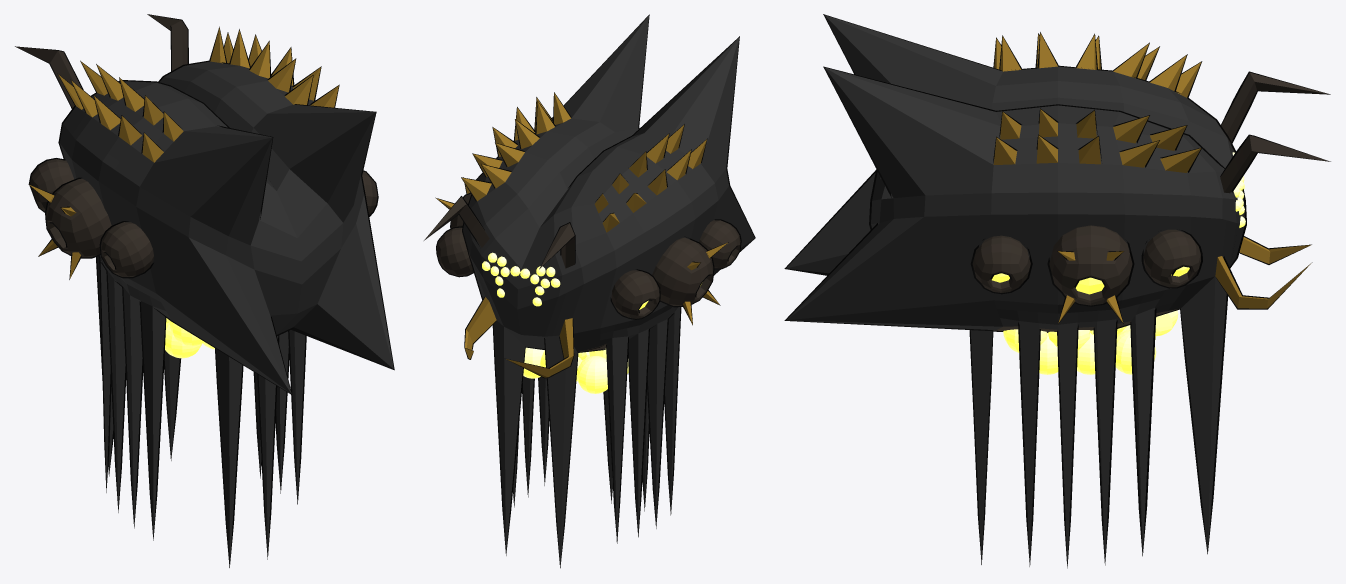
Rendered from Queen.fbx.
The picture shows the model from 3 angles, left to right: view 1: azimuth 30°, elevation 25°; view 2: azimuth 150°, elevation 25°; view 3: azimuth 270°, elevation 25°; orthographic projection. The views are drawn at different scales.
Parts seen in each view (by area): view 1: Body; view 2: Body; view 3: Body.
Part boxes in pixels (box(x1,y1,x2,y2)): Body: box(15, 14, 394, 567); Body: box(424, 14, 755, 568); Body: box(784, 14, 1330, 568).
Bounding box in the file's own units: 615 × 958 × 920.
